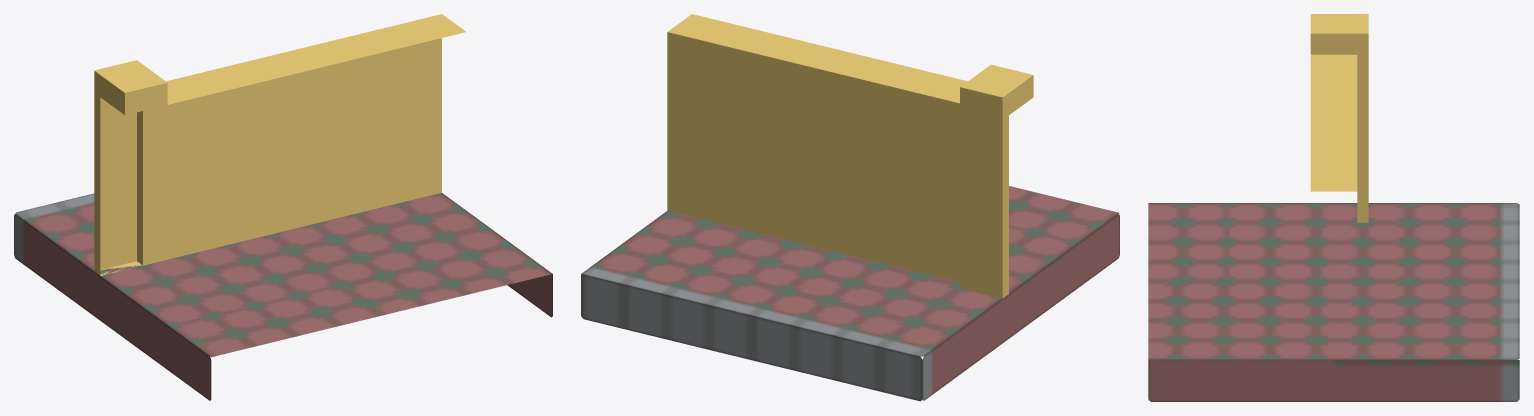
Rendered from MilitaryBase Wall.fbx.
The picture shows the model from 3 angles, left to right: view 1: azimuth 30°, elevation 25°; view 2: azimuth 150°, elevation 25°; view 3: azimuth 270°, elevation 25°; orthographic projection. The views are drawn at different scales.
Parts seen in each view (by area): view 1: cuboid, SideRoad; view 2: cuboid, SideRoad; view 3: SideRoad, cuboid.
Boxes of the visible parts, box(x1,y1,x2,y2) form: cuboid: box(94, 14, 465, 275); SideRoad: box(14, 193, 552, 400); cuboid: box(667, 14, 1033, 298); SideRoad: box(581, 186, 1119, 401); SideRoad: box(1148, 203, 1519, 401); cuboid: box(1310, 14, 1368, 222).
Size of the model in its own units: 200 by 138 by 200.
Materials: 2 (2 with a texture image).
